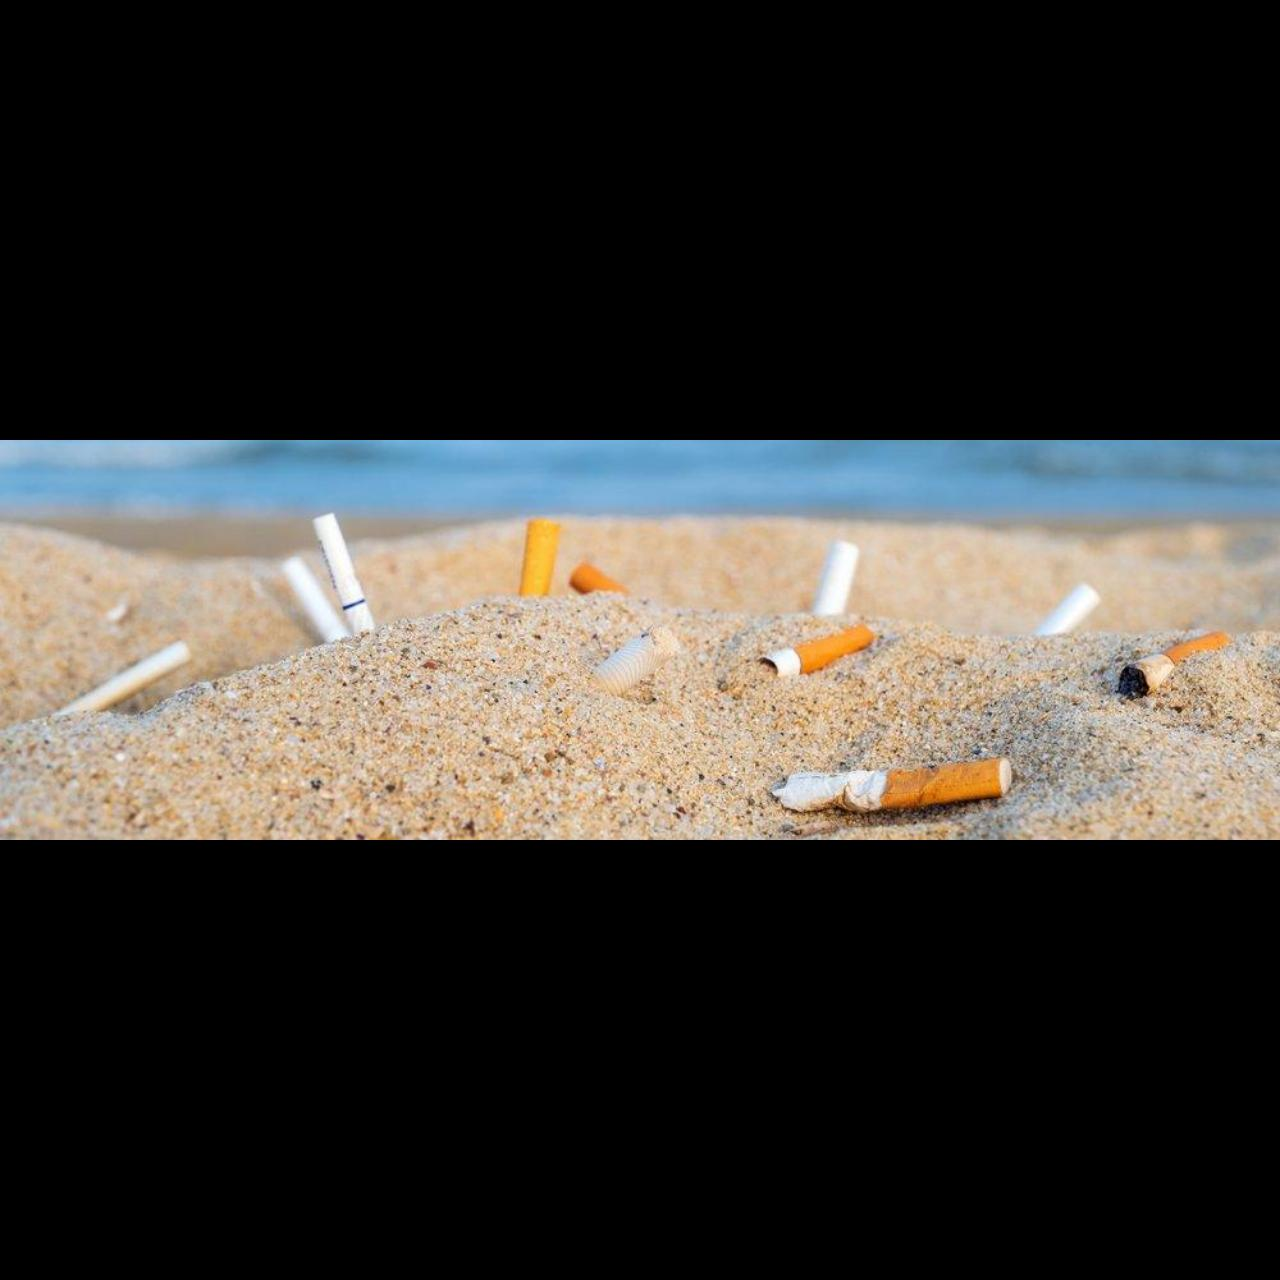cigarettes_butts: (771, 758, 1012, 813), (52, 641, 199, 721), (311, 512, 376, 635), (1118, 632, 1232, 697), (757, 625, 874, 678), (282, 558, 352, 644), (812, 542, 862, 617), (517, 519, 560, 598), (1034, 585, 1099, 635), (570, 563, 634, 593)
